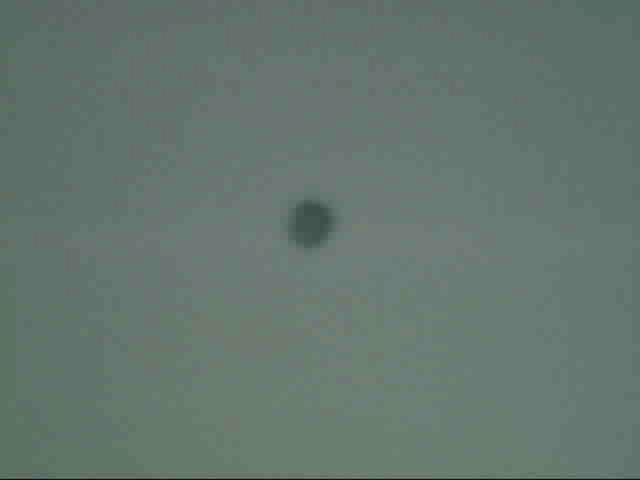PIQ PARTICLE: (277, 190, 345, 258)
